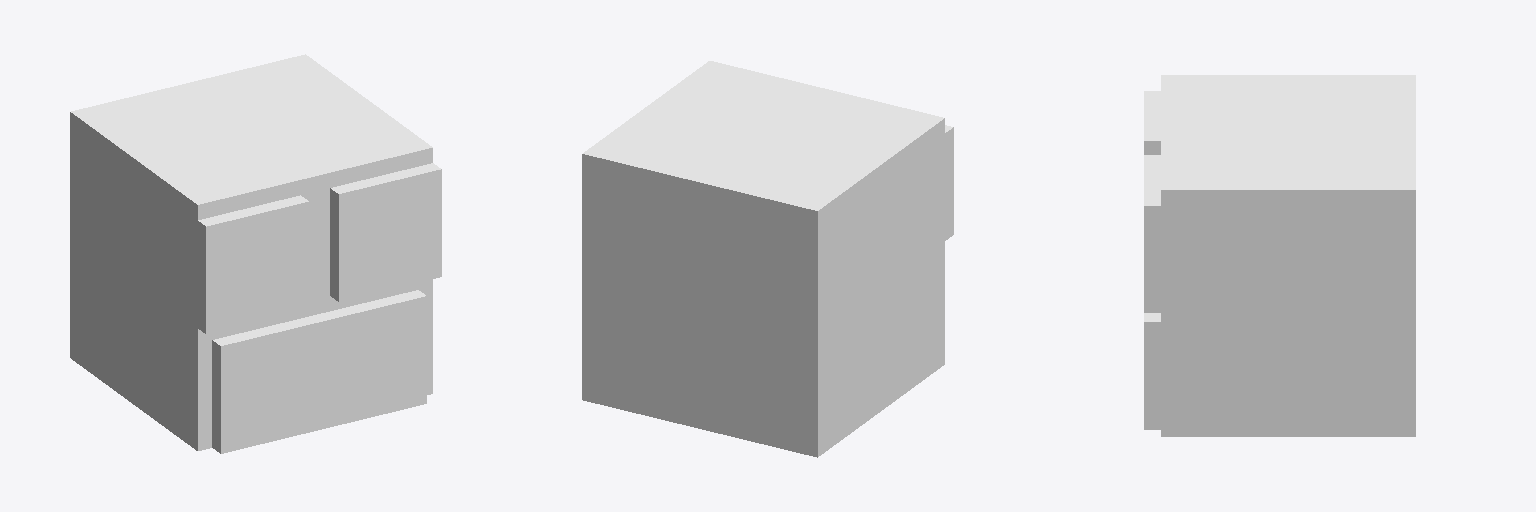
Rendered from Dungeon-2-Wall.obj.
The picture shows the model from 3 angles: view 1: azimuth 30°, elevation 25°; view 2: azimuth 150°, elevation 25°; view 3: azimuth 270°, elevation 25°; orthographic projection.
Visible parts, largest first — view 1: Wall; view 2: Wall; view 3: Wall.
Part boxes in pixels (x1,y1,x2,y2): Wall: (70,54,441,453); Wall: (582,61,953,457); Wall: (1144,75,1415,436).
Bounding box in the file's own units: 1.6 × 1.6 × 1.6.